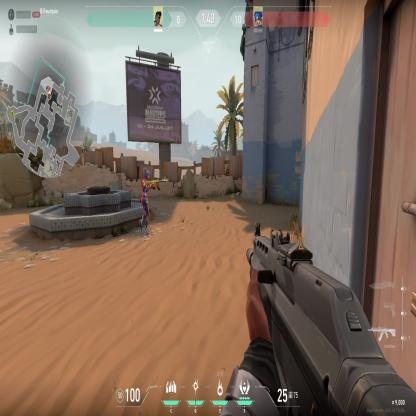enemy: (138, 166, 161, 238)
